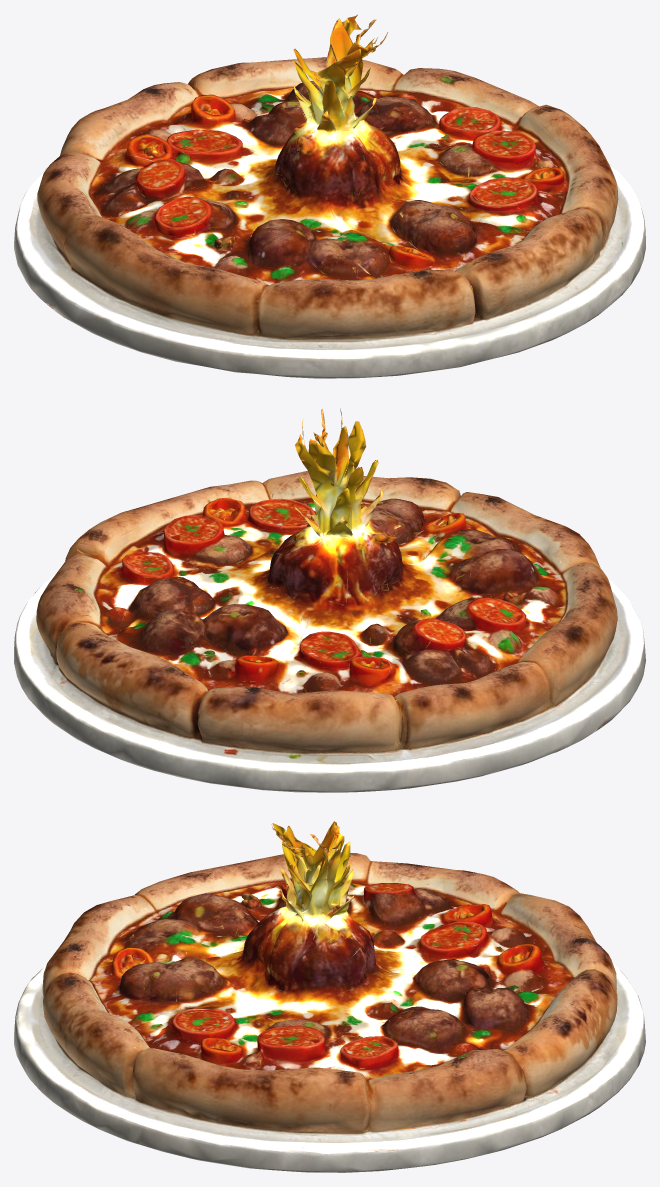
Rendered from pizza.glb.
3 renders of one model, top to bottom at view 1: azimuth 30°, elevation 25°; view 2: azimuth 150°, elevation 25°; view 3: azimuth 270°, elevation 25°, orthographic.
Parts seen in each view (by area): view 1: Mesh1.0; view 2: Mesh1.0; view 3: Mesh1.0.
Boxes of the visible parts, left/top/right/bottom form: Mesh1.0: left=14, top=14, right=645, bottom=378; Mesh1.0: left=14, top=408, right=645, bottom=792; Mesh1.0: left=14, top=821, right=645, bottom=1172.
Size of the model in its own units: 1.9 by 0.7715 by 1.9.
Materials: 1 (1 with a texture image).
